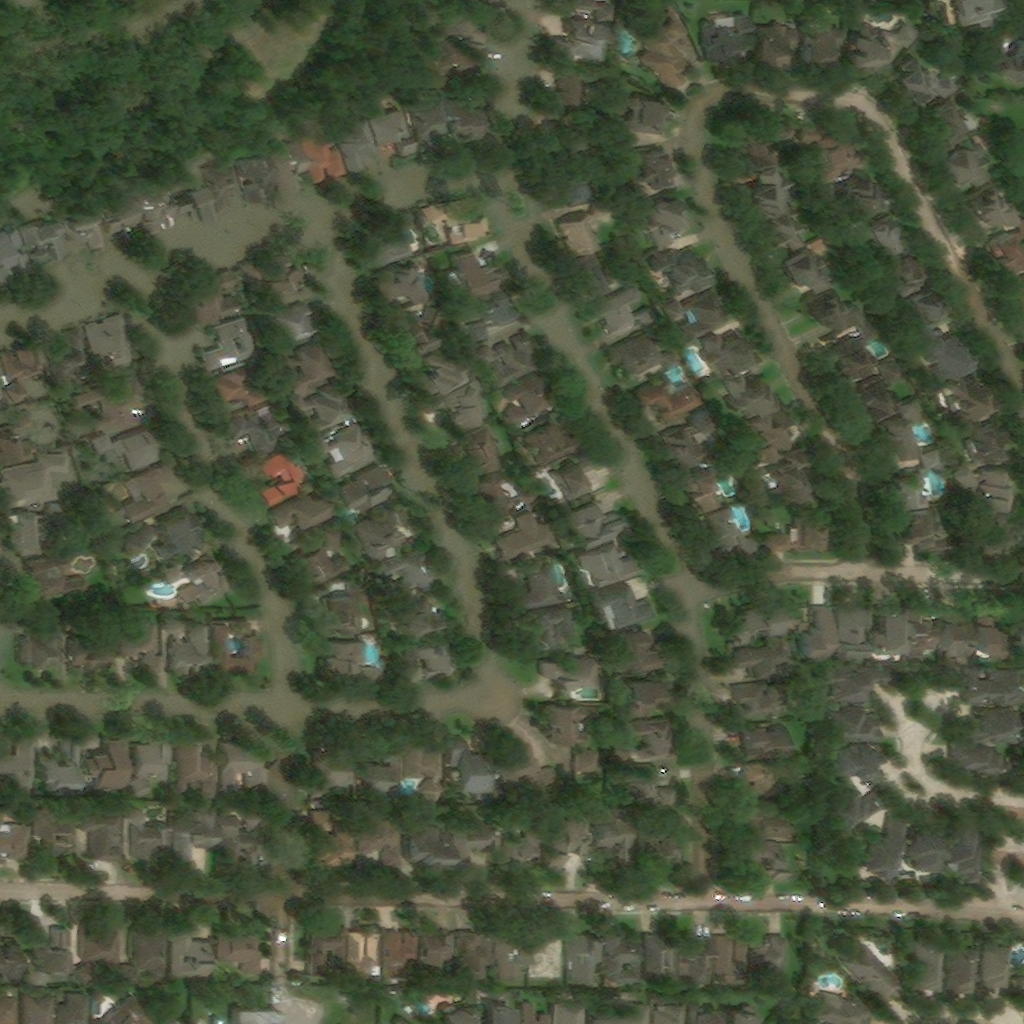destroyed: (203, 159, 246, 217)
major_damage: (311, 423, 379, 481), (180, 269, 244, 327), (296, 530, 354, 589), (462, 287, 519, 347), (287, 386, 355, 435), (421, 198, 489, 246), (364, 212, 419, 270), (894, 446, 948, 504), (356, 502, 408, 562), (2, 342, 49, 406), (84, 314, 134, 374), (257, 302, 318, 351), (48, 329, 93, 394), (320, 580, 370, 638), (832, 322, 882, 380), (204, 317, 255, 373), (856, 361, 902, 423), (261, 454, 311, 511), (130, 178, 176, 239), (340, 464, 395, 515), (427, 38, 483, 88), (383, 549, 439, 598), (739, 119, 791, 171), (229, 407, 285, 455), (804, 287, 866, 330), (234, 149, 279, 208), (211, 368, 272, 410), (273, 494, 335, 535), (300, 133, 347, 187), (553, 20, 613, 62), (260, 251, 307, 303), (781, 247, 833, 294), (21, 215, 71, 263), (267, 141, 310, 196), (404, 635, 452, 684), (166, 171, 213, 221), (386, 595, 446, 634), (923, 333, 971, 381), (749, 168, 796, 217), (882, 400, 920, 460), (411, 99, 453, 153), (288, 344, 335, 392), (956, 466, 1011, 507), (964, 416, 1010, 464), (369, 110, 416, 156), (766, 206, 810, 255), (380, 264, 431, 306), (944, 375, 992, 419), (98, 191, 144, 236), (549, 165, 594, 210), (904, 284, 940, 340), (439, 4, 487, 45), (391, 314, 439, 355), (65, 202, 104, 252), (341, 119, 379, 170), (990, 222, 1022, 281), (444, 97, 485, 142), (545, 69, 585, 110), (900, 507, 943, 542), (947, 0, 997, 28), (994, 38, 1022, 85), (326, 639, 367, 670), (571, 0, 619, 25), (558, 127, 586, 159), (0, 228, 24, 263), (0, 373, 7, 409), (1012, 282, 1022, 307), (474, 0, 495, 10)
minor_damage: (465, 428, 536, 516), (640, 2, 689, 89), (544, 701, 601, 775), (83, 425, 165, 473), (76, 377, 145, 434), (0, 456, 69, 512), (664, 290, 733, 346), (848, 21, 923, 71), (800, 124, 863, 183), (613, 329, 685, 380), (163, 559, 233, 610), (743, 408, 804, 466), (19, 555, 91, 603), (613, 92, 668, 153), (476, 335, 538, 389), (634, 377, 702, 426), (499, 741, 560, 792), (125, 465, 175, 527), (664, 408, 714, 470), (505, 372, 559, 429), (560, 203, 614, 260), (497, 512, 557, 563), (592, 583, 655, 631), (580, 541, 641, 590), (523, 605, 577, 660), (649, 246, 712, 293), (684, 456, 735, 514), (159, 507, 210, 561), (416, 351, 471, 401), (929, 97, 977, 154), (724, 367, 778, 417), (701, 329, 757, 377), (897, 59, 958, 103), (130, 740, 174, 801), (404, 741, 447, 803), (642, 812, 686, 872), (14, 615, 61, 671), (730, 601, 787, 647), (563, 502, 620, 548), (592, 290, 644, 340), (520, 560, 569, 613), (447, 739, 494, 794), (763, 448, 810, 503), (965, 183, 1021, 229), (214, 619, 259, 676), (613, 717, 674, 759), (358, 807, 402, 865), (448, 251, 504, 296), (702, 15, 753, 64), (119, 615, 161, 674), (220, 806, 264, 862), (615, 767, 675, 808), (734, 640, 794, 681), (177, 739, 217, 800), (41, 737, 84, 793), (942, 141, 992, 189), (765, 516, 825, 556), (641, 192, 683, 249), (125, 805, 169, 859), (314, 748, 358, 802), (166, 617, 209, 672), (611, 628, 666, 671), (445, 375, 486, 432), (34, 808, 77, 862), (172, 805, 216, 857), (553, 452, 597, 504), (580, 259, 640, 297), (80, 810, 123, 863), (314, 810, 357, 863), (87, 740, 126, 798), (528, 423, 577, 469), (217, 927, 262, 977), (548, 819, 592, 870), (0, 412, 40, 468), (223, 738, 266, 790), (541, 657, 600, 694), (956, 708, 1020, 742), (736, 685, 793, 723), (502, 813, 545, 863), (963, 668, 1022, 704), (974, 608, 1013, 660), (361, 743, 402, 792), (309, 929, 348, 980), (941, 607, 974, 667), (71, 621, 110, 671), (739, 804, 793, 840), (8, 510, 46, 560), (703, 508, 746, 552), (757, 19, 799, 64), (346, 929, 383, 980), (0, 739, 37, 790), (903, 606, 938, 659), (741, 842, 784, 885), (630, 146, 672, 190), (870, 606, 906, 657), (405, 823, 450, 863), (0, 804, 31, 861), (619, 673, 660, 716), (595, 810, 634, 853), (453, 816, 497, 854), (745, 724, 789, 762), (949, 742, 1001, 774), (802, 608, 835, 658), (836, 608, 869, 658), (746, 763, 798, 794), (883, 254, 924, 293), (843, 172, 880, 213), (863, 216, 899, 257), (803, 17, 844, 50), (126, 524, 162, 558), (234, 1005, 280, 1023), (384, 989, 397, 1001)
no_damage: (820, 784, 889, 841), (843, 942, 901, 1006), (861, 815, 908, 880), (121, 929, 168, 987), (28, 925, 72, 985), (75, 928, 119, 987), (822, 702, 880, 742), (828, 667, 889, 703), (945, 821, 980, 881), (171, 925, 210, 978), (814, 992, 879, 1023), (605, 932, 643, 985), (753, 934, 790, 988), (908, 820, 944, 875), (678, 934, 714, 987), (383, 931, 421, 981), (829, 741, 879, 779), (495, 928, 529, 983), (568, 932, 603, 985), (716, 936, 751, 987), (421, 931, 457, 980), (947, 948, 980, 1001), (461, 932, 494, 983), (915, 939, 945, 995), (982, 939, 1014, 991), (645, 935, 678, 985), (100, 995, 155, 1023), (23, 991, 54, 1023), (58, 992, 90, 1023), (442, 1002, 479, 1023), (486, 997, 514, 1023), (553, 1001, 586, 1023), (688, 1001, 720, 1023), (0, 942, 18, 979), (726, 1003, 758, 1023), (621, 1002, 651, 1023), (654, 1002, 684, 1023), (523, 1002, 552, 1023), (0, 994, 16, 1023), (589, 1007, 618, 1023), (405, 1007, 416, 1017), (216, 1018, 224, 1023)
